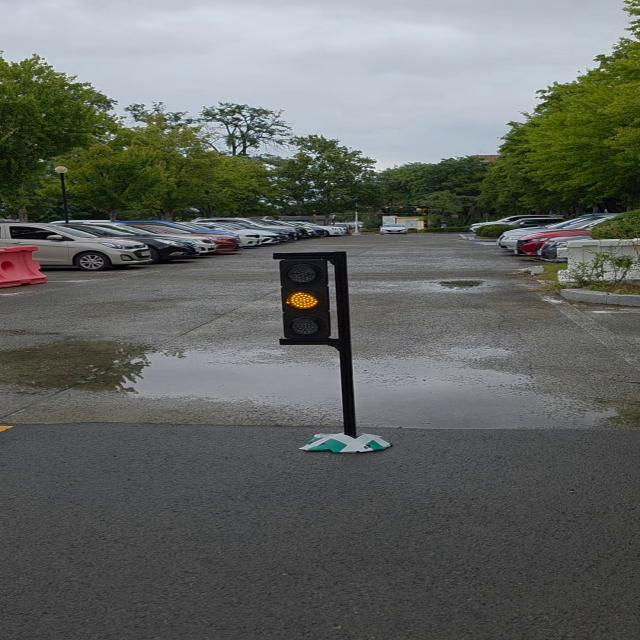yellow: (278, 258, 334, 344)
